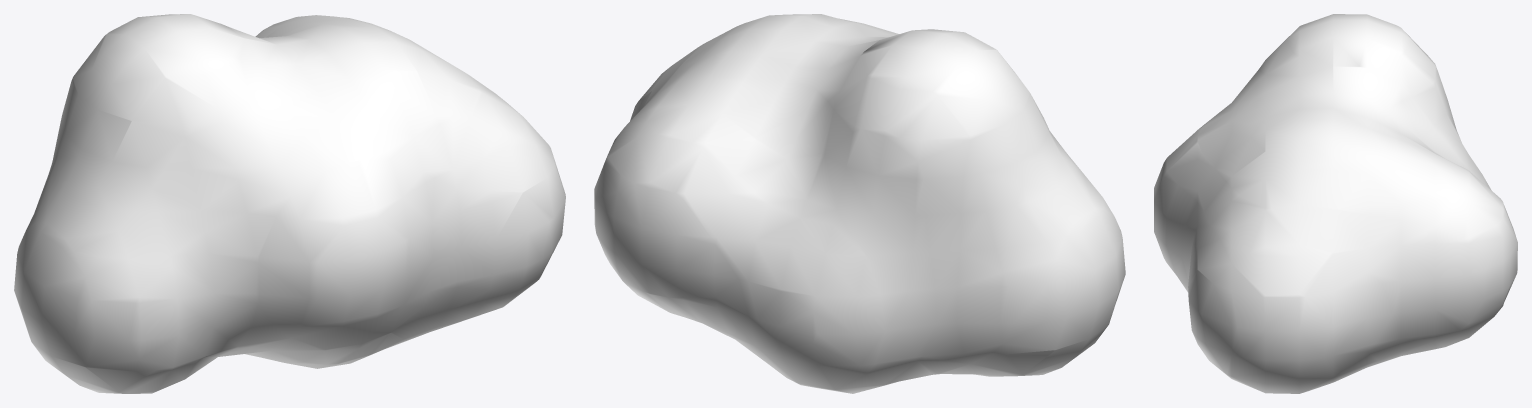
File: cloud.obj
The picture shows the model from 3 angles, left to right: view 1: azimuth 30°, elevation 25°; view 2: azimuth 150°, elevation 25°; view 3: azimuth 270°, elevation 25°; orthographic projection. The views are drawn at different scales.
Visible parts, largest first — view 1: Mball.008; view 2: Mball.008; view 3: Mball.008.
Part boxes in pixels (x1,y1,x2,y2): Mball.008: (14,14,565,393); Mball.008: (594,14,1125,393); Mball.008: (1154,14,1517,393).
Bounding box in the file's own units: 18 × 12 × 13.5.
Materials: 1 (1 with a texture image).
